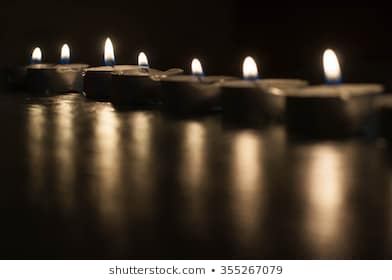Fire: (321, 45, 343, 87), (103, 36, 115, 68)
